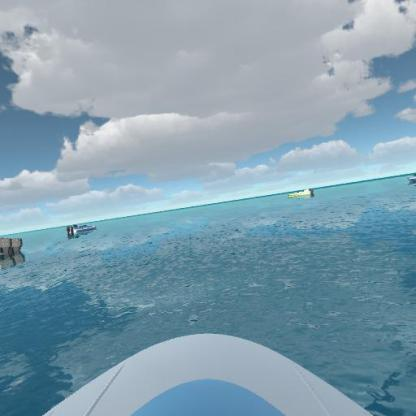usv1: (63, 215, 98, 238), (0, 234, 26, 260), (402, 163, 415, 187)
usv2: (283, 182, 316, 203)
